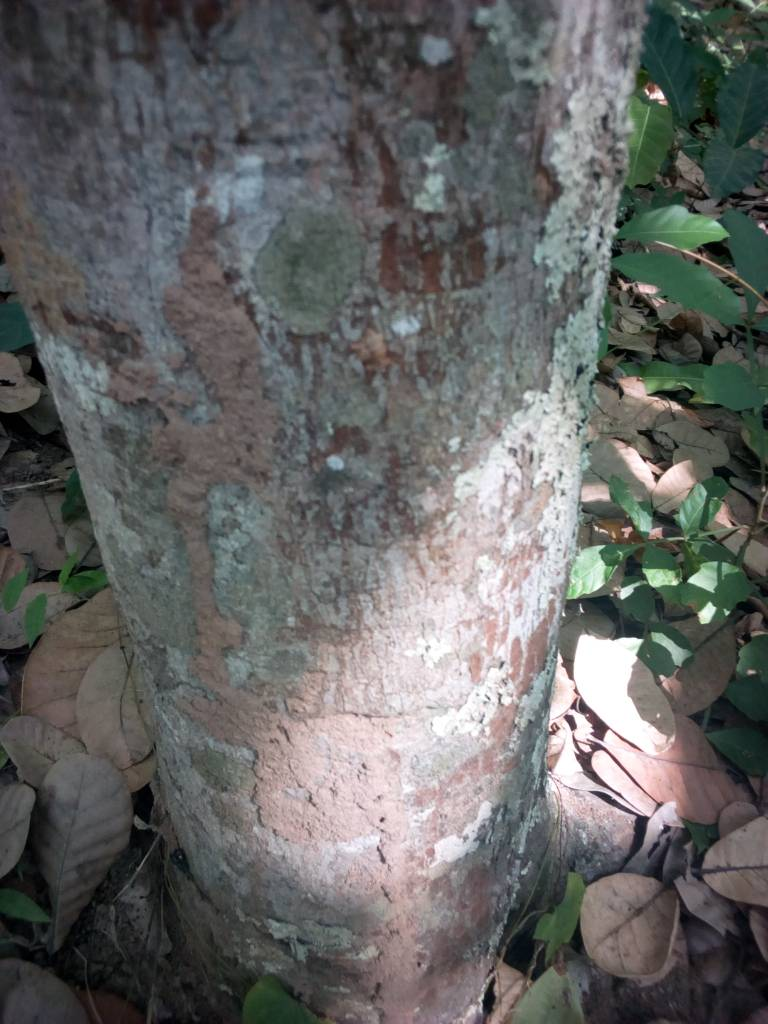Termites: (146, 236, 515, 1024)
